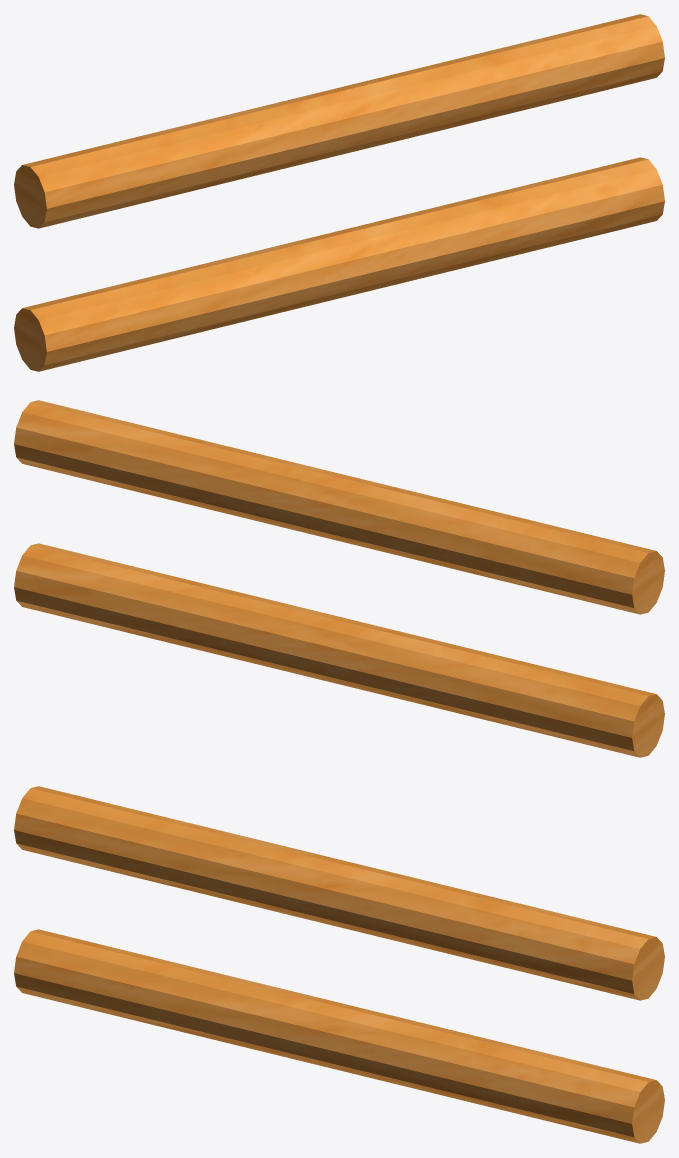
Rendered from FenceSegmentNoPosts.fbx.
3 views of the same model, one above another, from view 1: azimuth 30°, elevation 25°; view 2: azimuth 150°, elevation 25°; view 3: azimuth 330°, elevation 25° (orthographic).
Visible parts, largest first — view 1: FenceSegmentNoPost; view 2: FenceSegmentNoPost; view 3: FenceSegmentNoPost.
Part boxes in pixels (bbox=[...]): FenceSegmentNoPost: bbox=[14, 14, 664, 371]; FenceSegmentNoPost: bbox=[14, 400, 664, 757]; FenceSegmentNoPost: bbox=[14, 786, 664, 1143].
Bounding box in the file's own units: 5.42 × 1.7 × 0.4997.
